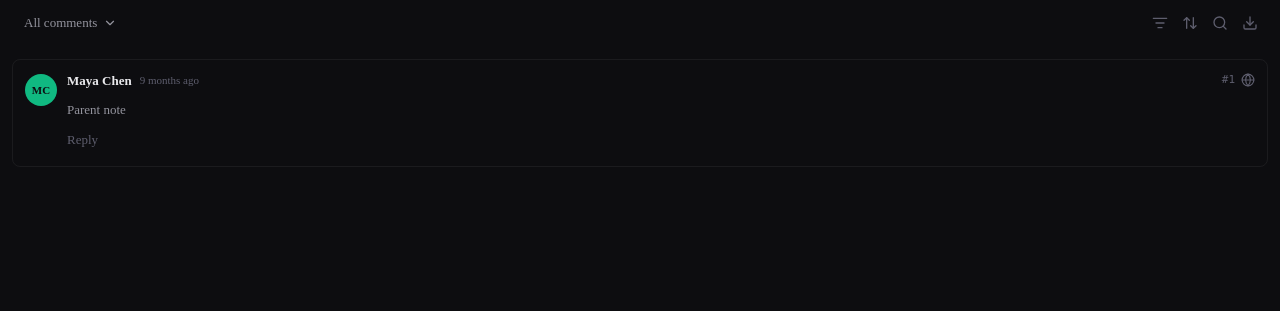
Test: CommentPanel inline reply › shows the error and keeps the typed text when the reply is rejected
Click the button "Reply": coordinates (83, 140) [67,130,98,149]
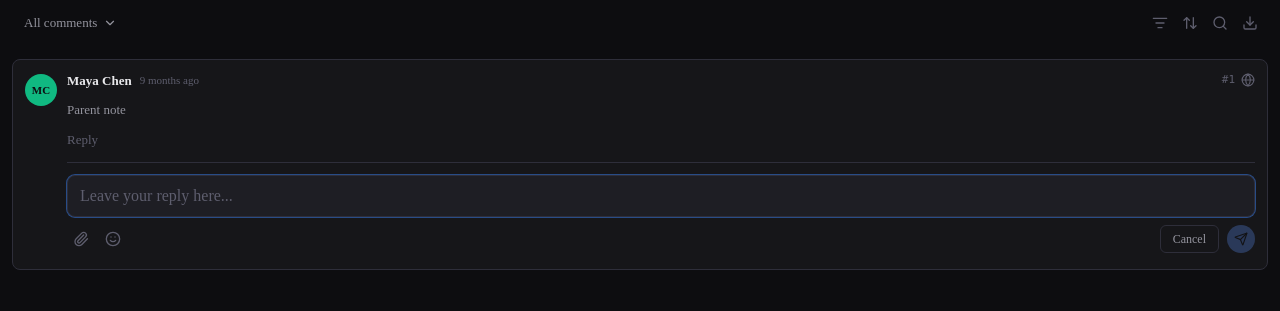
In the field with placeholder "Leave your reply here...": coordinates (661, 196) [67,175,1255,217], type "my reply"
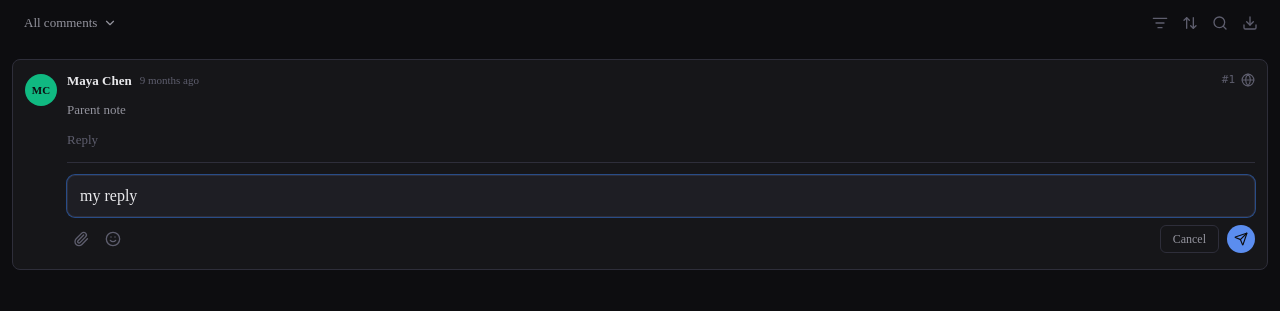
Press Enter in the field with placeholder "Leave your reply here...", box [67,175,1255,217]
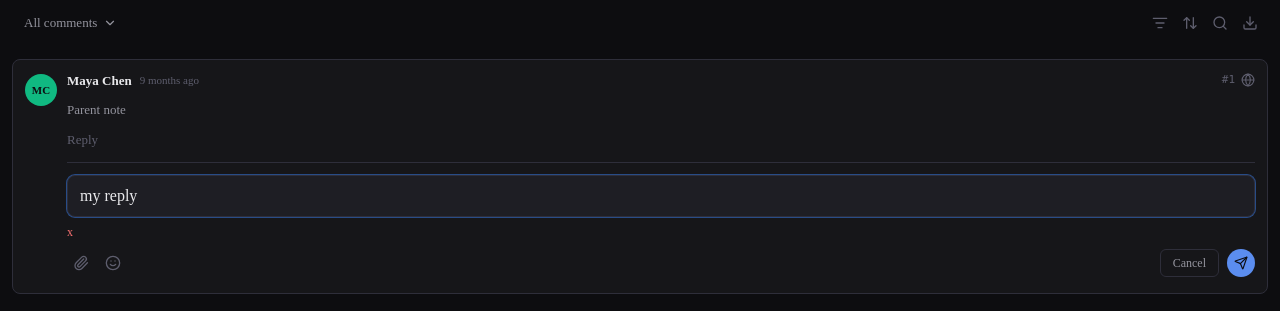
Now the message reads "x", box [67,225,73,239]
